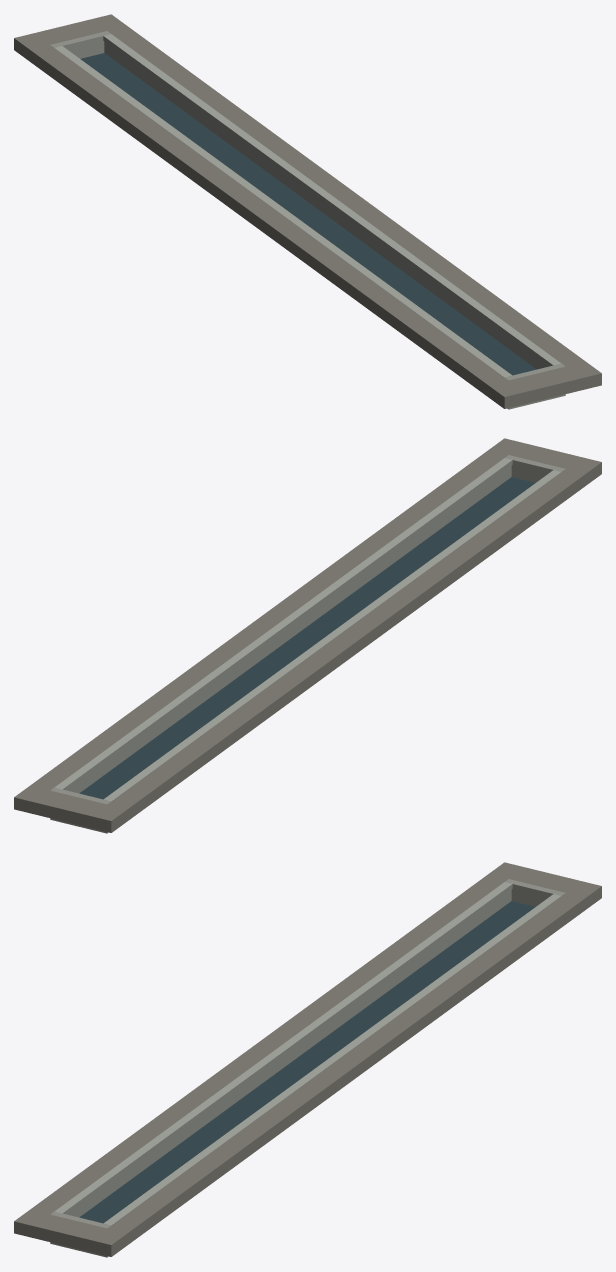
File: Waterworks_ChannelIntegration_Unity.fbx
3 renders of one model, top to bottom at view 1: azimuth 30°, elevation 25°; view 2: azimuth 150°, elevation 25°; view 3: azimuth 330°, elevation 25°, orthographic.
Parts seen in each view (by area): view 1: Waterworks_ChannelGround_WestShoulder, Waterworks_ChannelWater, Waterworks_ChannelGround_EastShoulder, Waterworks_ChannelStraight_06, Waterworks_ChannelStraight_07, Waterworks_ChannelStraight_03, Waterworks_ChannelStraight_08, Waterworks_ChannelStraight_04, Waterworks_ChannelStraight_05, Waterworks_ChannelStraight_02, Waterworks_ChannelStraight, Waterworks_ChannelGround_SouthCap (+2 smaller); view 2: Waterworks_ChannelGround_WestShoulder, Waterworks_ChannelWater, Waterworks_ChannelGround_EastShoulder, Waterworks_ChannelStraight_02, Waterworks_ChannelStraight_03, Waterworks_ChannelStraight, Waterworks_ChannelStraight_06, Waterworks_ChannelStraight_04, Waterworks_ChannelStraight_05, Waterworks_ChannelStraight_07, Waterworks_ChannelStraight_08, Waterworks_ChannelGround_NorthCap (+2 smaller); view 3: Waterworks_ChannelGround_EastShoulder, Waterworks_ChannelWater, Waterworks_ChannelGround_WestShoulder, Waterworks_ChannelStraight_06, Waterworks_ChannelStraight_07, Waterworks_ChannelStraight_03, Waterworks_ChannelStraight_08, Waterworks_ChannelStraight_04, Waterworks_ChannelStraight_05, Waterworks_ChannelStraight_02, Waterworks_ChannelStraight, Waterworks_ChannelGround_SouthCap (+2 smaller).
Boxes of the visible parts, box(x1,y1,x2,y2) form: Waterworks_ChannelGround_WestShoulder: box(14, 33, 524, 408); Waterworks_ChannelWater: box(80, 53, 536, 375); Waterworks_ChannelGround_EastShoulder: box(91, 14, 601, 390); Waterworks_ChannelStraight_06: box(167, 116, 279, 176); Waterworks_ChannelStraight_07: box(111, 75, 223, 134); Waterworks_ChannelStraight_03: box(336, 240, 448, 299); Waterworks_ChannelStraight_08: box(55, 34, 167, 93); Waterworks_ChannelStraight_04: box(280, 199, 392, 258); Waterworks_ChannelStraight_05: box(223, 157, 335, 217); Waterworks_ChannelStraight_02: box(392, 281, 504, 340); Waterworks_ChannelStraight: box(448, 322, 561, 377); Waterworks_ChannelGround_SouthCap: box(509, 366, 581, 403); Waterworks_ChannelGround_WestShoulder: box(91, 457, 601, 832); Waterworks_ChannelWater: box(79, 477, 535, 799); Waterworks_ChannelGround_EastShoulder: box(14, 438, 524, 814); Waterworks_ChannelStraight_02: box(392, 499, 504, 558); Waterworks_ChannelStraight_03: box(336, 540, 448, 600); Waterworks_ChannelStraight: box(448, 458, 560, 517); Waterworks_ChannelStraight_06: box(167, 664, 279, 723); Waterworks_ChannelStraight_04: box(280, 581, 392, 641); Waterworks_ChannelStraight_05: box(223, 623, 335, 682); Waterworks_ChannelStraight_07: box(111, 705, 223, 764); Waterworks_ChannelStraight_08: box(54, 746, 167, 801); Waterworks_ChannelGround_NorthCap: box(34, 790, 106, 827); Waterworks_ChannelGround_EastShoulder: box(91, 881, 601, 1256); Waterworks_ChannelWater: box(79, 901, 535, 1223); Waterworks_ChannelGround_WestShoulder: box(14, 862, 524, 1238); Waterworks_ChannelStraight_06: box(336, 964, 448, 1024); Waterworks_ChannelStraight_07: box(392, 923, 504, 982); Waterworks_ChannelStraight_03: box(167, 1088, 279, 1147); Waterworks_ChannelStraight_08: box(448, 882, 560, 941); Waterworks_ChannelStraight_04: box(223, 1047, 335, 1106); Waterworks_ChannelStraight_05: box(280, 1005, 392, 1065); Waterworks_ChannelStraight_02: box(111, 1129, 223, 1188); Waterworks_ChannelStraight: box(54, 1170, 167, 1225); Waterworks_ChannelGround_SouthCap: box(34, 1214, 106, 1251).
Size of the model in its own units: 1.95 by 0.56 by 17.
